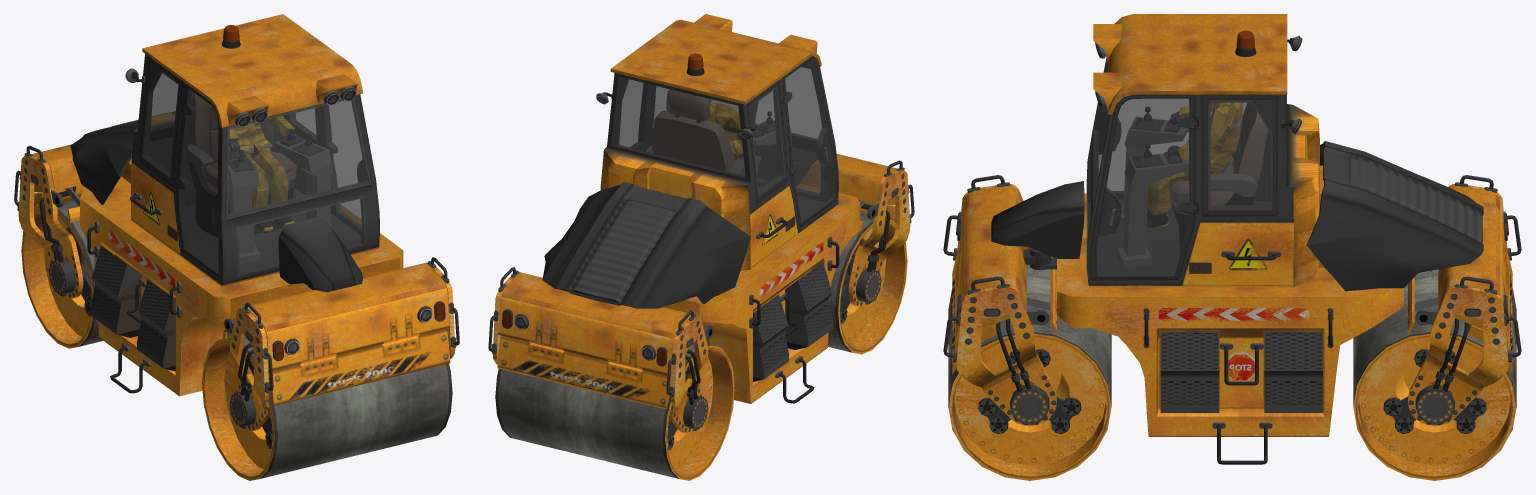
Rendered from compacteur_tandem.glb.
3 renders of one model, left to right at view 1: azimuth 30°, elevation 25°; view 2: azimuth 150°, elevation 25°; view 3: azimuth 270°, elevation 25°, orthographic. The views are drawn at different scales.
Parts seen in each view (by area): view 1: Body_1_Textures 1_0, Body_2_Textures 2_0, Body_1_Glass_0, Wheel_F_Textures 2_0, Body_1_Textures 4_0, Body_3_Textures 2_0, Wheel_B_Textures 2_0, Body_1_Textures. Engineer_0; view 2: Body_1_Textures 1_0, Body_3_Textures 2_0, Body_1_Glass_0, Wheel_B_Textures 2_0, Body_1_Textures 4_0, Body_2_Textures 2_0, Wheel_F_Textures 2_0, Body_1_Textures. Engineer_0; view 3: Body_1_Textures 1_0, Body_1_Glass_0, Wheel_B_Textures 2_0, Wheel_F_Textures 2_0, Body_2_Textures 2_0, Body_1_Textures 4_0, Body_3_Textures 2_0, Body_1_Textures. Engineer_0.
Boxes of the visible parts, x1,y1,x2,y2 form: Body_1_Textures 1_0: [70, 14, 403, 396]; Body_2_Textures 2_0: [224, 257, 459, 430]; Body_1_Glass_0: [143, 71, 368, 275]; Wheel_F_Textures 2_0: [202, 337, 452, 480]; Body_1_Textures 4_0: [143, 71, 368, 275]; Body_3_Textures 2_0: [14, 144, 89, 298]; Wheel_B_Textures 2_0: [21, 198, 102, 348]; Body_1_Textures. Engineer_0: [212, 106, 295, 232]; Body_1_Textures 1_0: [542, 14, 860, 403]; Body_3_Textures 2_0: [488, 267, 713, 432]; Body_1_Glass_0: [611, 61, 834, 222]; Wheel_B_Textures 2_0: [495, 343, 734, 480]; Body_1_Textures 4_0: [607, 61, 834, 222]; Body_2_Textures 2_0: [724, 130, 914, 306]; Wheel_F_Textures 2_0: [828, 212, 907, 354]; Body_1_Textures. Engineer_0: [706, 99, 757, 159]; Body_1_Textures 1_0: [991, 14, 1483, 464]; Body_1_Glass_0: [1086, 59, 1286, 276]; Wheel_B_Textures 2_0: [1353, 269, 1516, 480]; Wheel_F_Textures 2_0: [948, 264, 1111, 480]; Body_2_Textures 2_0: [943, 175, 1056, 425]; Body_1_Textures 4_0: [1086, 59, 1286, 276]; Body_3_Textures 2_0: [1408, 175, 1521, 426]; Body_1_Textures. Engineer_0: [1147, 102, 1242, 228].
Bounding box in the file's own units: 0.5405 × 0.8117 × 1.07.
5 materials, 4 textured.
